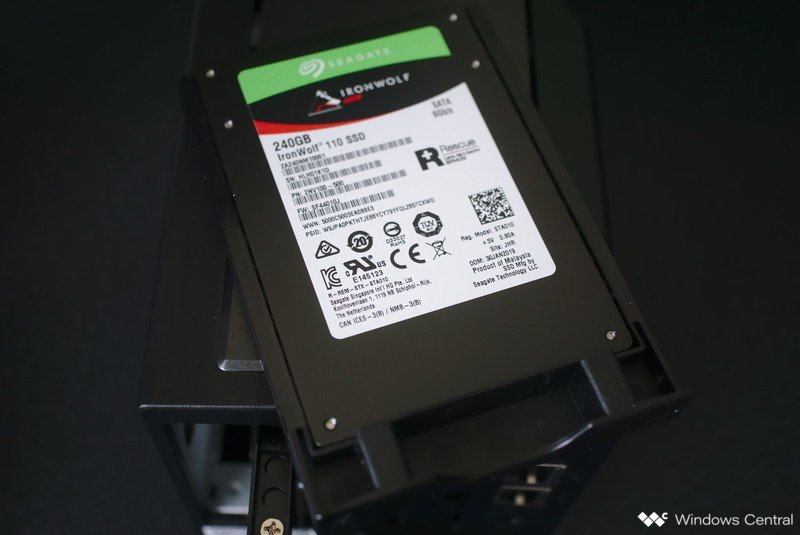seagate-hdd-240gb: (183, 13, 679, 519)
